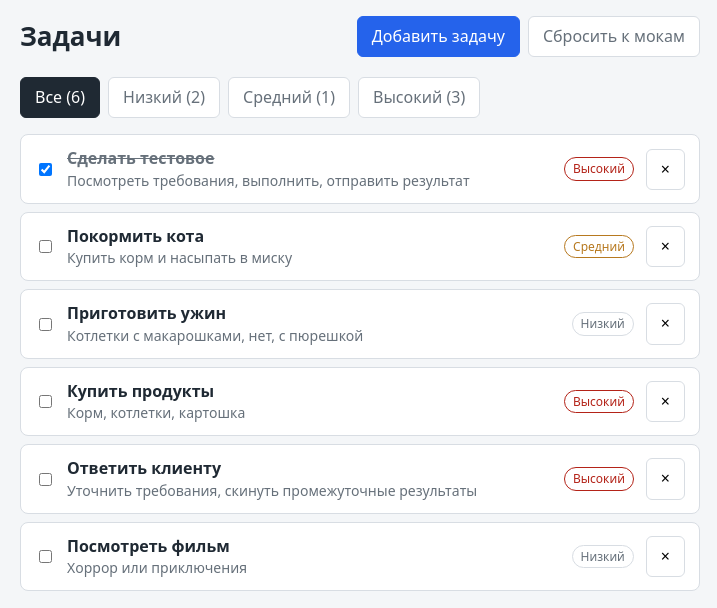
Test case: App › возвращает полный список по фильтру «Все»
Click the button "Низкий (2)": (164, 98) [108,77,220,118]
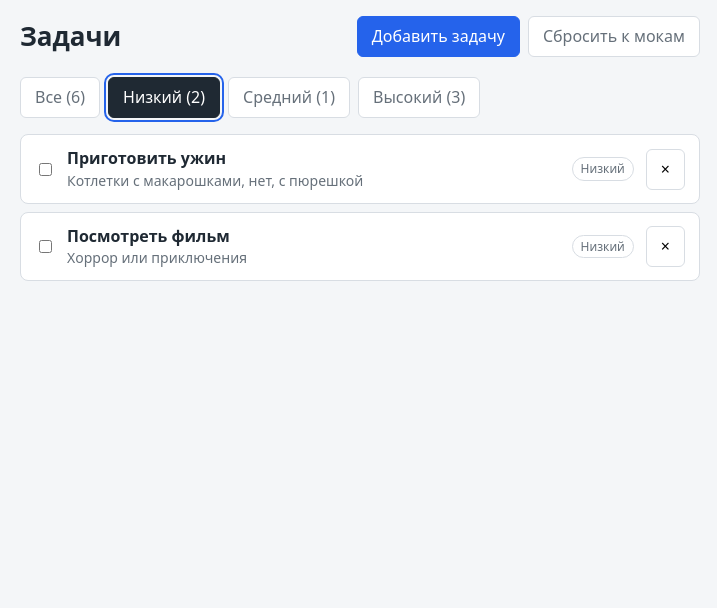
Result: the number of list items is 2 at [20,134,700,204]; [20,212,700,281]
Click the button "Все (6)": (60, 98) [20,77,100,118]
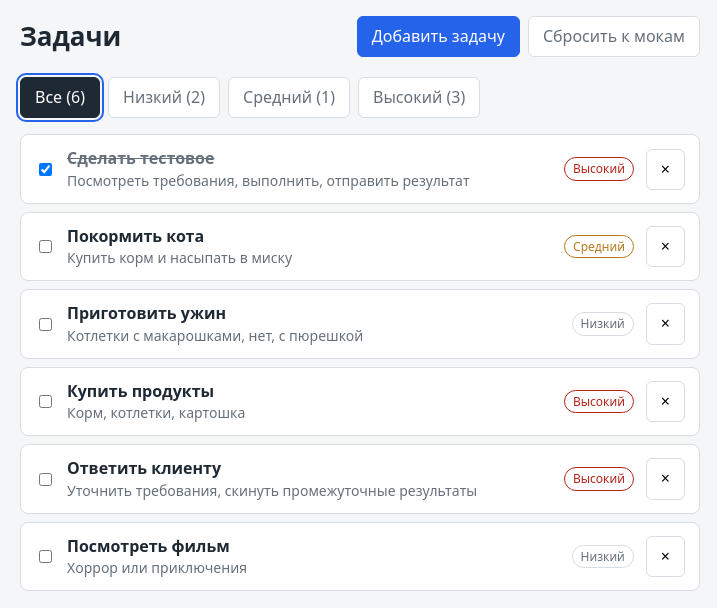
Result: the number of list items is 6 at [20,134,700,204]; [20,212,700,281]; [20,289,700,359]; [20,367,700,436]; [20,444,700,514]; [20,522,700,591]
